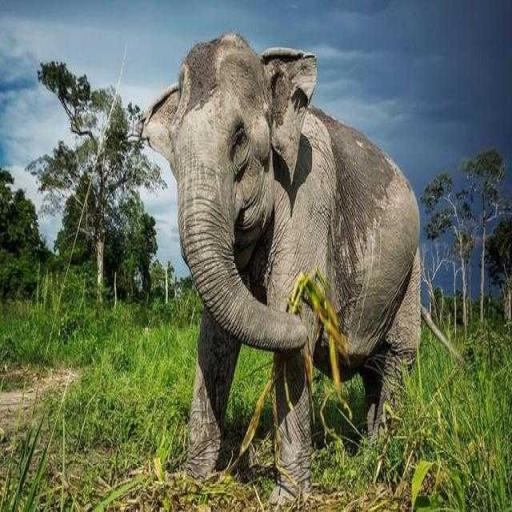Elephant: (138, 29, 424, 505)
